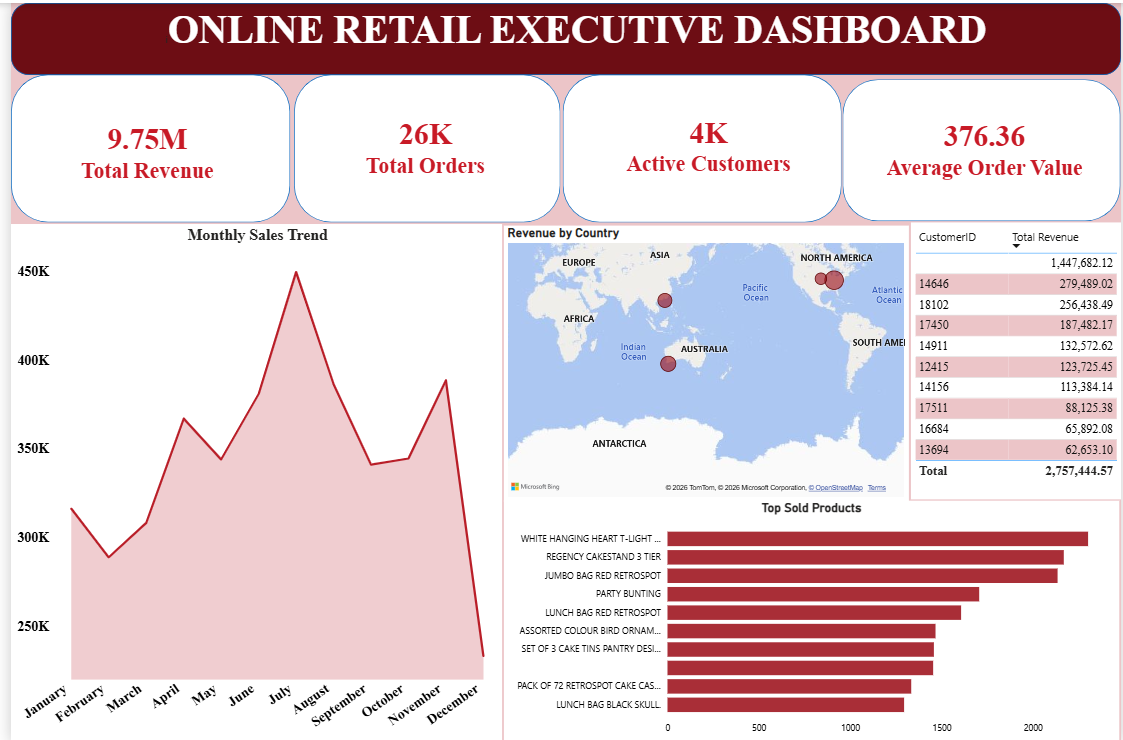

Layout of this report page (visuals, bound fields, positions):
{"tool":"powerbi","page":{"name":"DASHBOARD","canvas":[1500,1000],"ordinal":0},"visuals":[{"type":"shape","box":[382.3,97.4,360,199.7],"z":0},{"type":"lineChart","title":" Monthly Sales Trend","fields":{"Y":["Online_Retail.Total Revenue"],"Category":["Online_Retail.InvoiceDate.Variation.Date Hierarchy.Month"]},"box":[0,298.4,663.4,700.4],"z":1000},{"type":"map","title":" Revenue by Country","fields":{"Size":["Online_Retail.Total Revenue"],"Category":["Online_Retail.Country"]},"box":[666.7,300,546.2,371.8],"z":2000},{"type":"shape","box":[0,97.4,377.3,199.8],"z":3000},{"type":"clusteredBarChart","title":"Top Sold Products","fields":{"Category":["Online_Retail.Description"],"Y":["Online_Retail.Total Orders"]},"box":[666.7,672.2,831.5,325.9],"z":4000},{"type":"shape","box":[746.2,97.4,376.9,200],"z":5000},{"type":"cardVisual","fields":{"Data":["Online_Retail.Total Orders"]},"box":[411.9,120.8,295.9,152.9],"z":6000},{"type":"tableEx","fields":{"Values":["Online_Retail.CustomerID","Online_Retail.Total Revenue"]},"box":[1215.4,297.4,284.6,374.4],"z":7000},{"type":"shape","box":[1124.3,102.7,375.7,191.9],"z":8000},{"type":"cardVisual","fields":{"Data":["Online_Retail.Average Order Value"]},"box":[1149.2,123.3,332.9,152.9],"z":9000},{"type":"cardVisual","fields":{"Data":["Online_Retail.Active Customers"]},"box":[794.1,118.4,295.9,152.9],"z":10000},{"type":"cardVisual","fields":{"Data":["Online_Retail.Total Revenue"]},"box":[37,125.8,295.9,152.9],"z":11000},{"type":"shape","box":[0,0,1500,97.4],"z":12000},{"type":"textbox","box":[75,0,1336.1,97.2],"z":13000}]}

Visuals, with their boxes in screenshot pixels (x1, y1, x2, y2), scaled from the page's 1500x1000 canvas onto the 1123x740 screenshot:
shape: bbox=[286, 72, 556, 220]
" Monthly Sales Trend" lineChart: bbox=[0, 221, 497, 739]
" Revenue by Country" map: bbox=[499, 222, 908, 497]
shape: bbox=[0, 72, 282, 220]
"Top Sold Products" clusteredBarChart: bbox=[499, 497, 1122, 739]
shape: bbox=[559, 72, 841, 220]
cardVisual - Online_Retail.Total Orders: bbox=[308, 89, 530, 203]
tableEx - Online_Retail.CustomerID x Online_Retail.Total Revenue: bbox=[910, 220, 1122, 497]
shape: bbox=[842, 76, 1122, 218]
cardVisual - Online_Retail.Average Order Value: bbox=[860, 91, 1110, 204]
cardVisual - Online_Retail.Active Customers: bbox=[595, 88, 816, 201]
cardVisual - Online_Retail.Total Revenue: bbox=[28, 93, 249, 206]
shape: bbox=[0, 0, 1122, 72]
textbox: bbox=[56, 0, 1056, 72]
